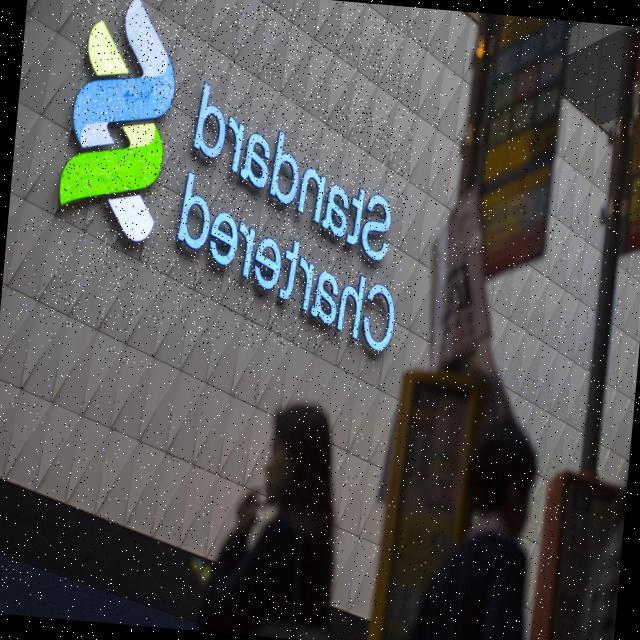Standard Chartered: (48, 0, 422, 354)
